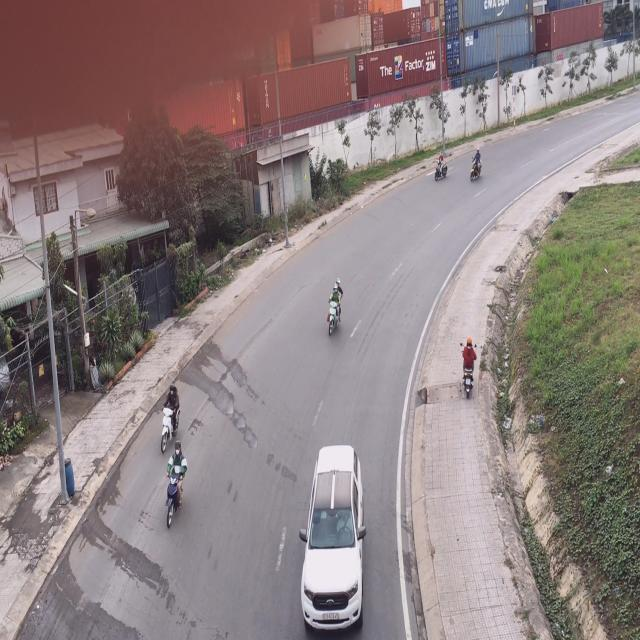car: (305, 441, 365, 637)
motorbike: (163, 444, 184, 530), (159, 381, 180, 455), (459, 332, 476, 398), (324, 278, 342, 337), (435, 144, 450, 183), (469, 148, 482, 184)
